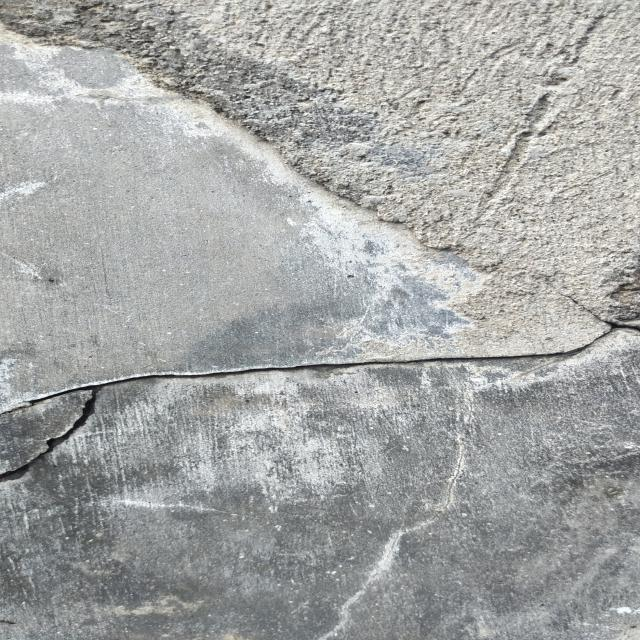Crack: (15, 321, 561, 433)
